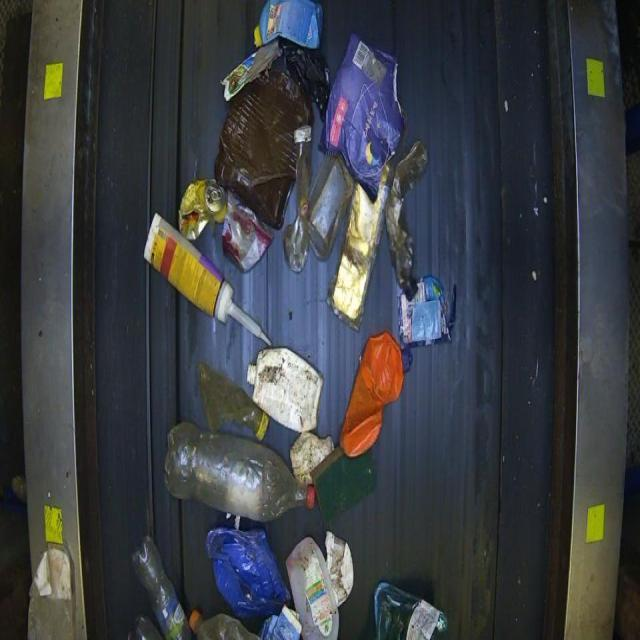cups: (142, 212, 272, 346)
other-trash: (129, 1, 455, 638)
trashbin: (370, 579, 449, 639)
